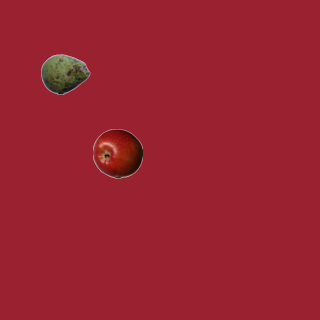Apple Braeburn: (92, 128, 142, 178)
Pear Stone: (40, 49, 90, 99)
